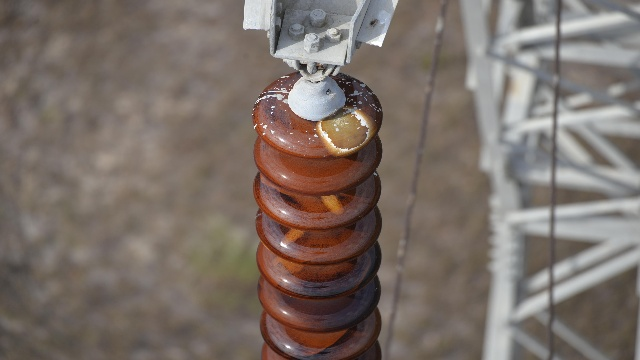insulator_unspecified: (249, 72, 388, 359)
pollution_flashover_local: (317, 104, 371, 158), (322, 191, 350, 213), (282, 224, 300, 247)
